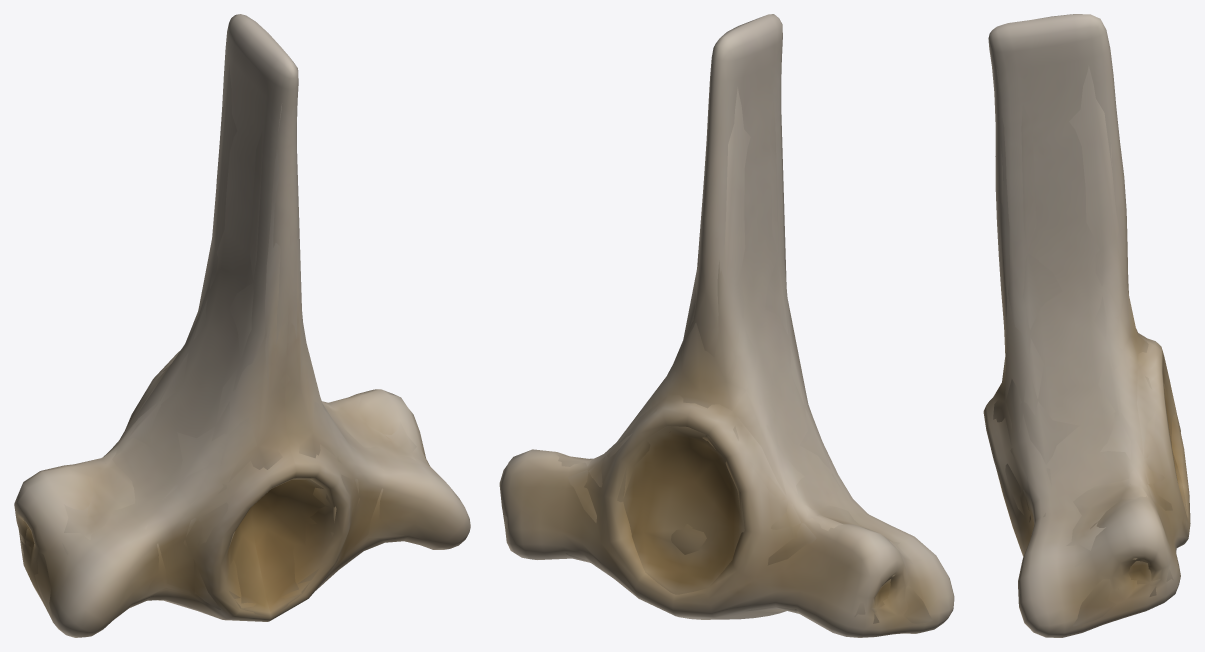
The model's file is vertebrae thoracicae 10.fbx.
3 views of the same model, side by side, from view 1: azimuth 30°, elevation 25°; view 2: azimuth 150°, elevation 25°; view 3: azimuth 270°, elevation 25° (orthographic). The views are drawn at different scales.
Parts seen in each view (by area): view 1: vertebrae thoracicae 10, vertebrae thoracicae 10 low; view 2: vertebrae thoracicae 10, vertebrae thoracicae 10 low; view 3: vertebrae thoracicae 10, vertebrae thoracicae 10 low.
Boxes of the visible parts, x1,y1,x2,y2 form: vertebrae thoracicae 10: [14, 14, 470, 637]; vertebrae thoracicae 10 low: [20, 65, 428, 617]; vertebrae thoracicae 10: [499, 14, 954, 637]; vertebrae thoracicae 10 low: [504, 87, 932, 623]; vertebrae thoracicae 10: [983, 14, 1190, 637]; vertebrae thoracicae 10 low: [993, 65, 1186, 626].
Bounding box in the file's own units: 5.05 × 6.99 × 2.33.
1 material, 1 textured.
